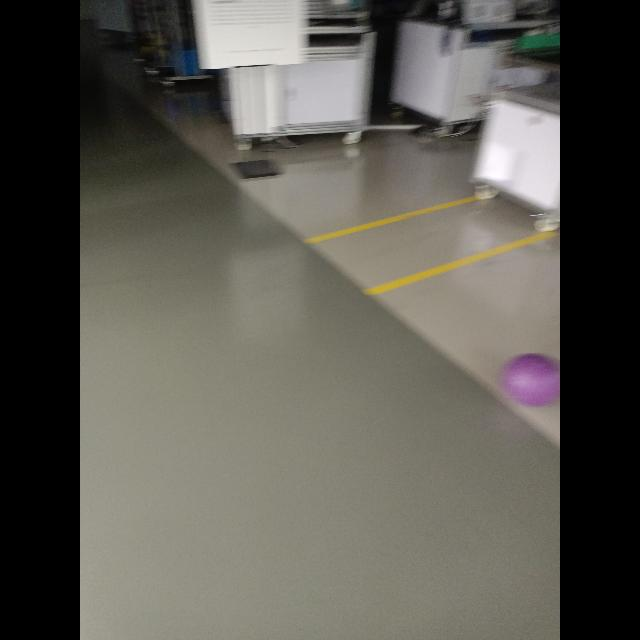P: (500, 352, 560, 406)
